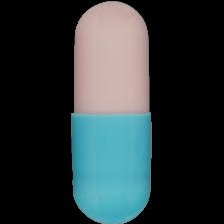63739-508: (0, 0, 224, 224)
